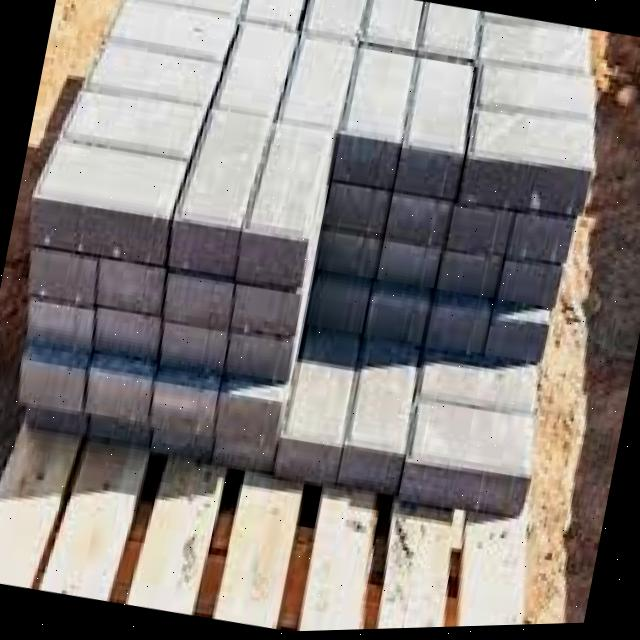bricks: (21, 0, 596, 512)
